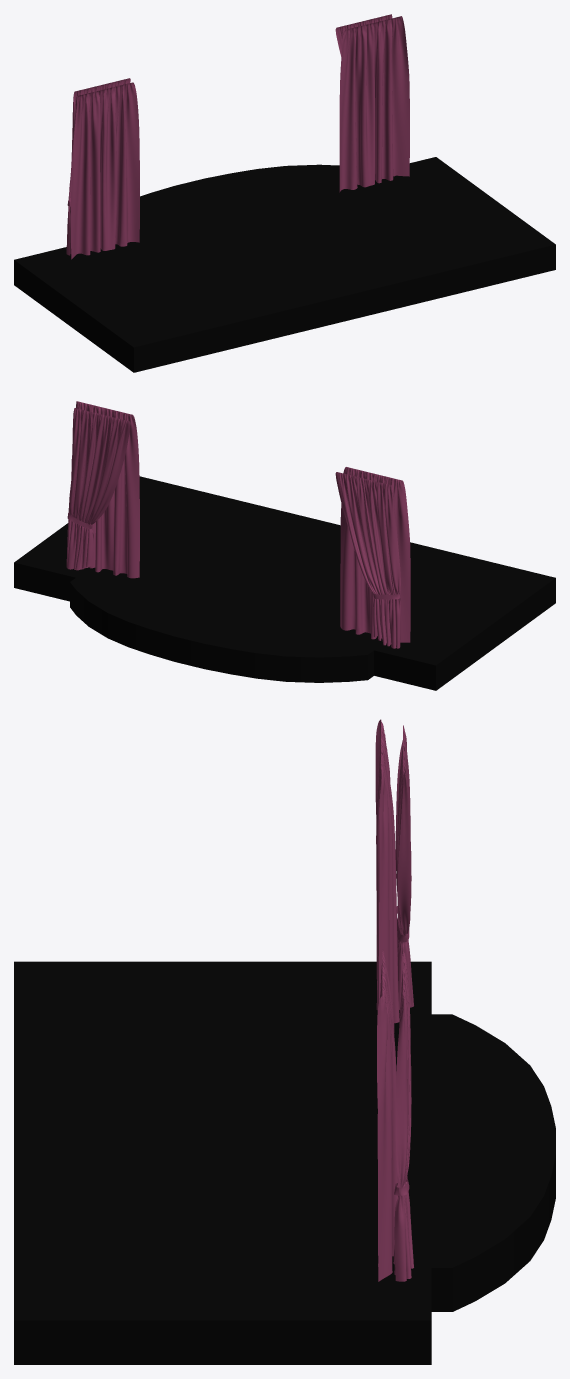
The model's file is 0612 CurtainTest.fbx.
The picture shows the model from 3 angles, top to bottom: view 1: azimuth 30°, elevation 25°; view 2: azimuth 150°, elevation 25°; view 3: azimuth 270°, elevation 25°; orthographic projection. The views are drawn at different scales.
Visible parts, largest first — view 1: Stage, ST_LegCurtain2.003, ST_LegCurtain2.001, ST_LegCurtain1; view 2: Stage, ST_LegCurtain1, ST_LegCurtain1.001, ST_LegCurtain2.001, ST_LegCurtain2.003; view 3: Stage, ST_LegCurtain2.003, ST_LegCurtain2.001, ST_LegCurtain1.001, ST_LegCurtain1.
Part boxes in pixels (left/top/right/bottom): Stage: left=14, top=157, right=555, bottom=372; ST_LegCurtain2.003: left=339, top=16, right=409, bottom=192; ST_LegCurtain2.001: left=71, top=82, right=139, bottom=259; ST_LegCurtain1: left=66, top=78, right=130, bottom=255; Stage: left=14, top=476, right=555, bottom=690; ST_LegCurtain1: left=335, top=472, right=400, bottom=648; ST_LegCurtain1.001: left=66, top=408, right=130, bottom=570; ST_LegCurtain2.001: left=340, top=467, right=410, bottom=642; ST_LegCurtain2.003: left=71, top=401, right=139, bottom=578; Stage: left=14, top=961, right=555, bottom=1364; ST_LegCurtain2.003: left=377, top=948, right=398, bottom=1281; ST_LegCurtain2.001: left=375, top=719, right=399, bottom=1034; ST_LegCurtain1.001: left=393, top=948, right=413, bottom=1281; ST_LegCurtain1: left=395, top=725, right=413, bottom=1009.
Size of the model in its own units: 1220 by 520 by 778.
